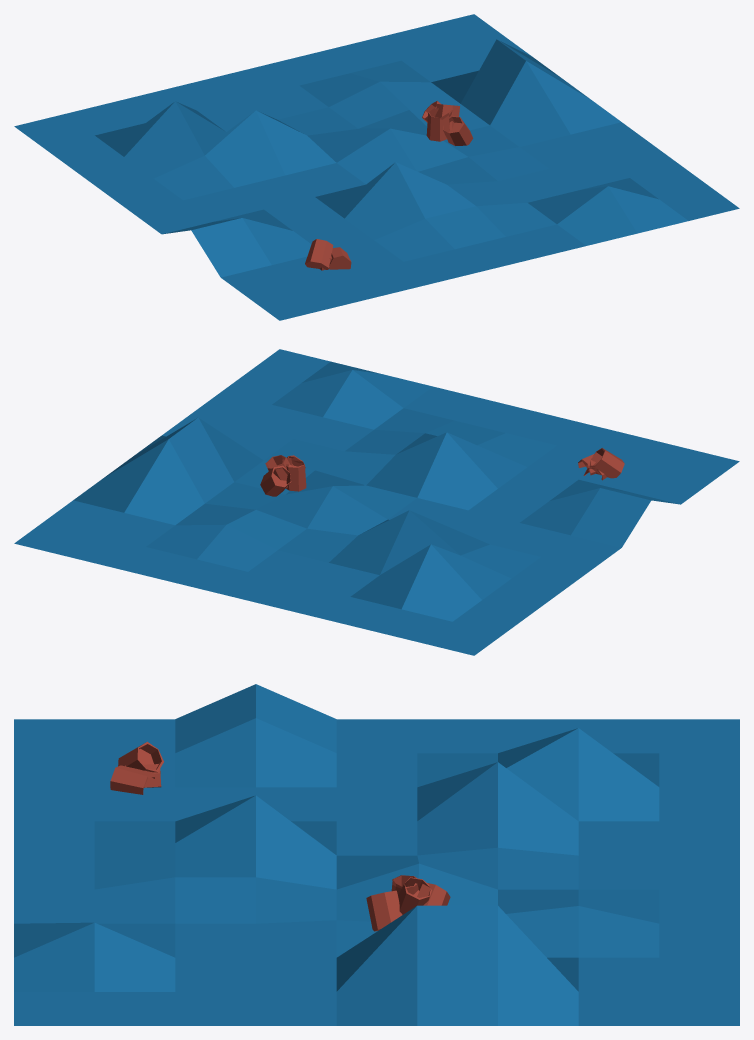
The model's file is bumpy.obj.
3 views of the same model, one above another, from view 1: azimuth 30°, elevation 25°; view 2: azimuth 150°, elevation 25°; view 3: azimuth 270°, elevation 25° (orthographic). The views are drawn at different scales.
Parts seen in each view (by area): view 1: Grid.001_Grid.002, Cylinder; view 2: Grid.001_Grid.002, Cylinder; view 3: Grid.001_Grid.002, Cylinder.
Part boxes in pixels (box(x1,y1,x2,y2)): Grid.001_Grid.002: box(14, 14, 739, 320); Cylinder: box(305, 101, 473, 270); Grid.001_Grid.002: box(14, 349, 739, 655); Cylinder: box(260, 448, 624, 496); Grid.001_Grid.002: box(14, 684, 739, 1025); Cylinder: box(110, 741, 450, 931).
Bounding box in the file's own units: 9.87 × 1.69 × 9.87.
